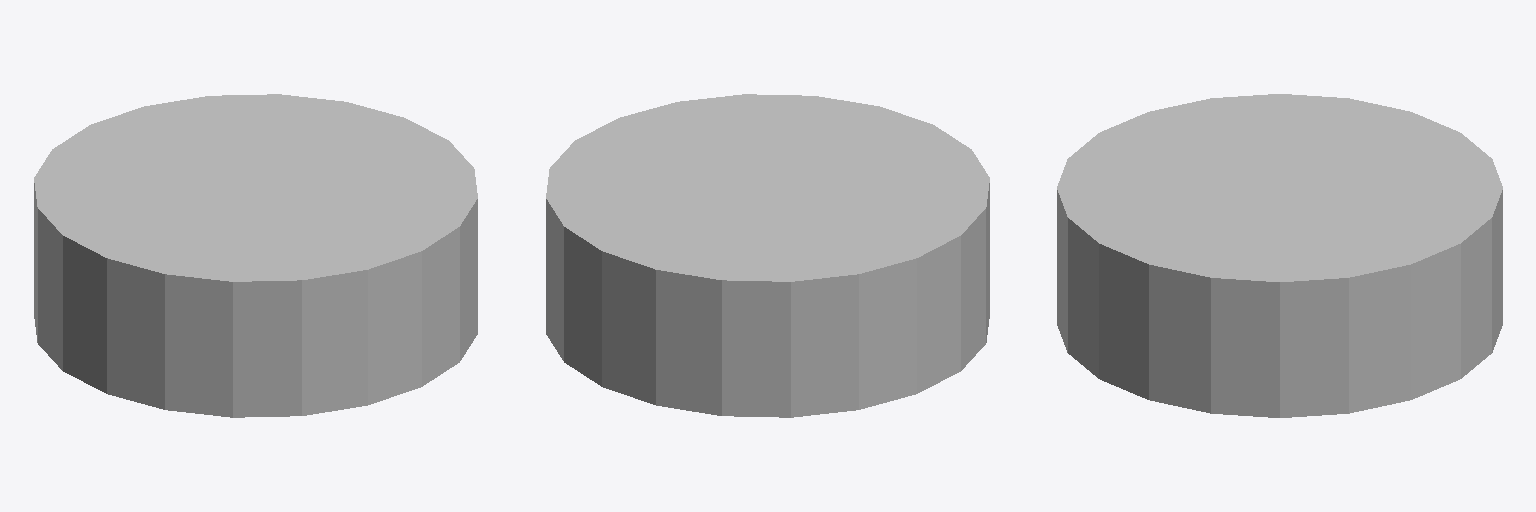
Rendered from toy2_diffuse.obj.
3 views of the same model, side by side, from view 1: azimuth 30°, elevation 25°; view 2: azimuth 150°, elevation 25°; view 3: azimuth 270°, elevation 25° (orthographic).
Visible parts, largest first — view 1: pCylinder1; view 2: pCylinder1; view 3: pCylinder1.
Boxes of the visible parts, <box> form: pCylinder1: <box>34,94,477,417</box>; pCylinder1: <box>546,94,989,417</box>; pCylinder1: <box>1057,94,1502,417</box>.
Bounding box in the file's own units: 0.8691 × 0.2917 × 0.8691.